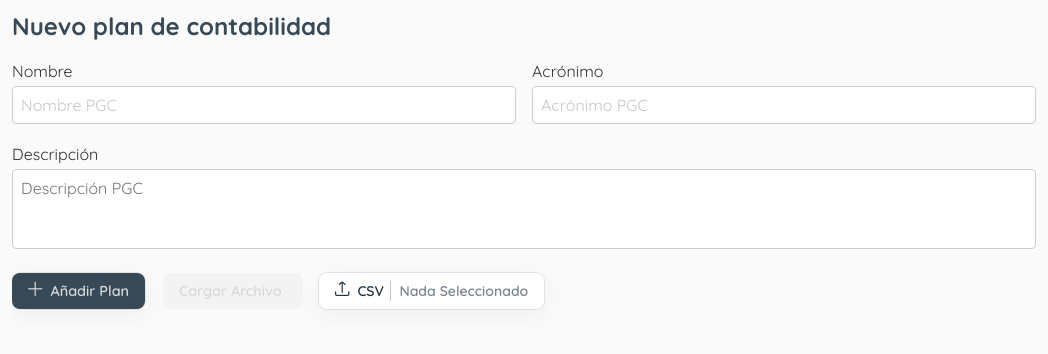
Test case: AddAccountingPlan › Debería mostrar un mensaje de error si el envío del formulario falla
Type "Test PGC" into the field with placeholder "Nombre PGC" at (264, 105), box [12,86,516,124]
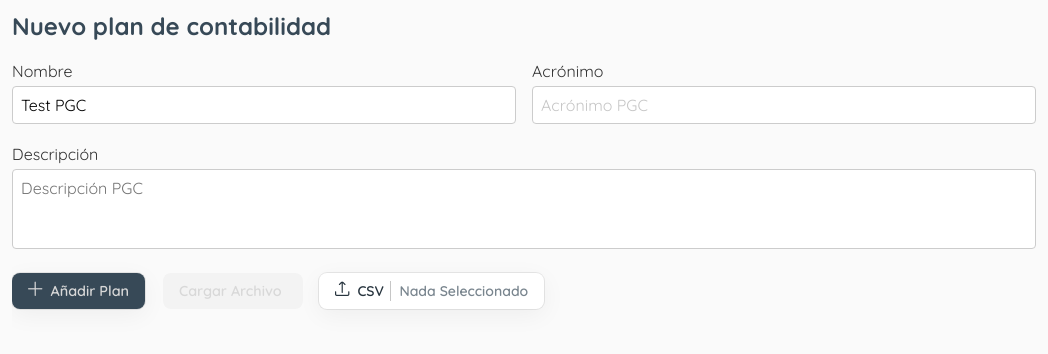
Type "TPGC" into the field with placeholder "Acrónimo PGC" at (784, 105), box [532,86,1036,124]
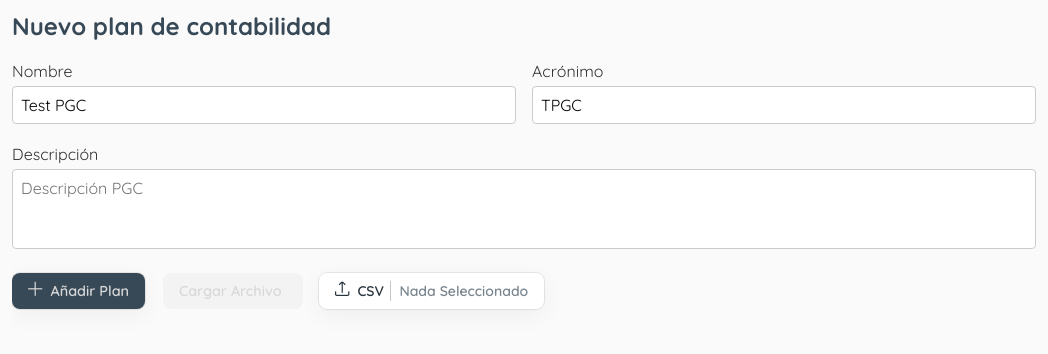
Type "Test Description" into the text box with placeholder "Descripción PGC" at (524, 209), box [12,169,1036,249]
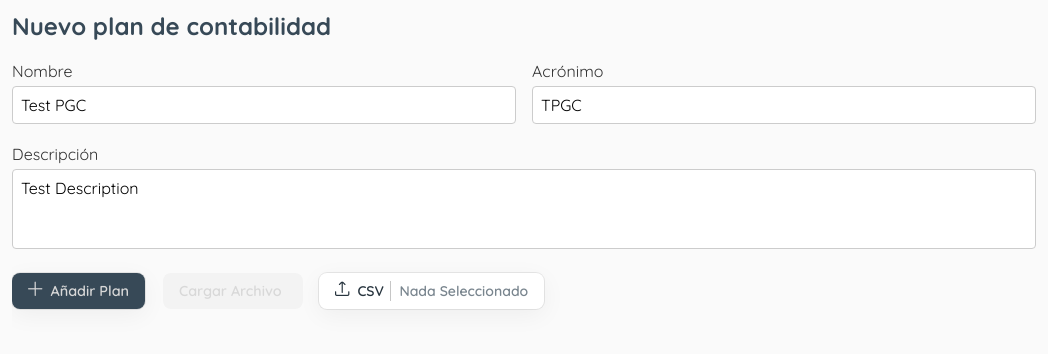
Click the button "Añadir plan" at (79, 291), box [12,273,145,309]
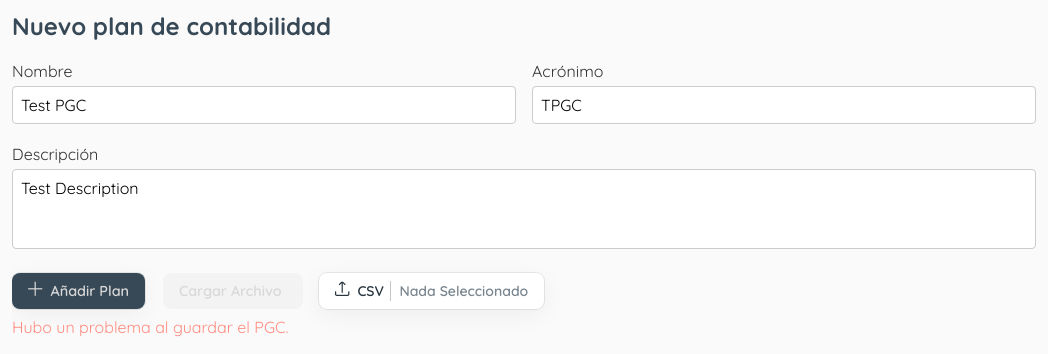
expect the text "Hubo un problema al guardar el PGC." is shown: met, box [12,317,288,337]
